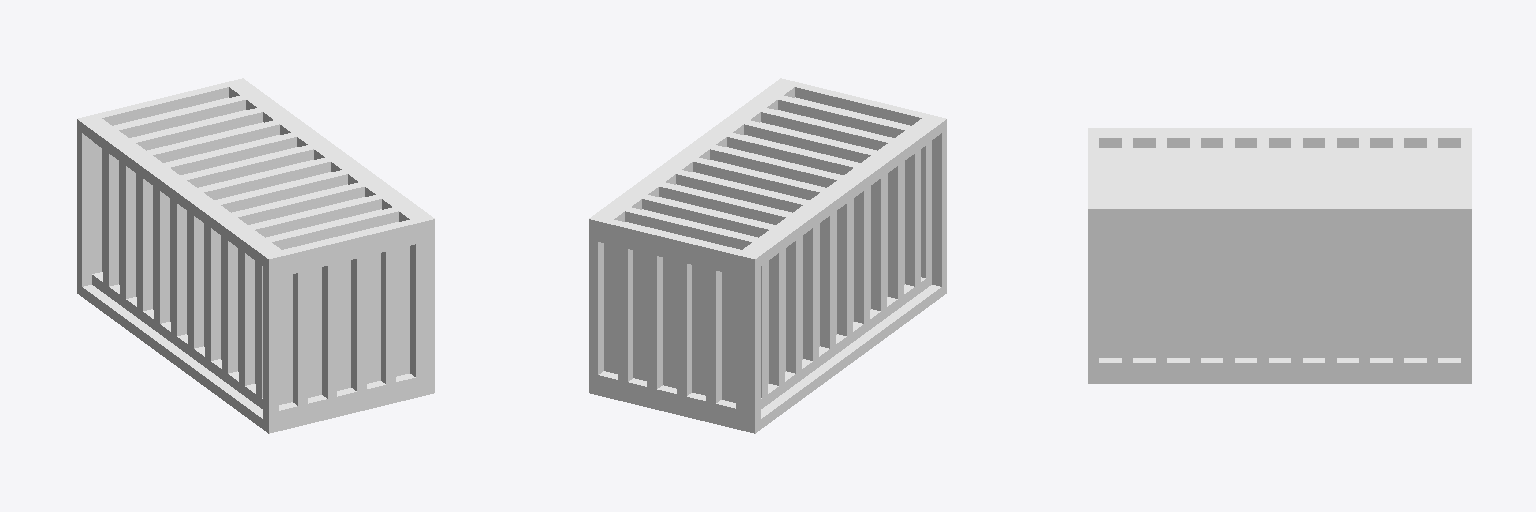
File: CONTAINER.obj
3 views of the same model, side by side, from view 1: azimuth 30°, elevation 25°; view 2: azimuth 150°, elevation 25°; view 3: azimuth 270°, elevation 25° (orthographic).
Bounding box in the file's own units: 17 × 17 × 34.